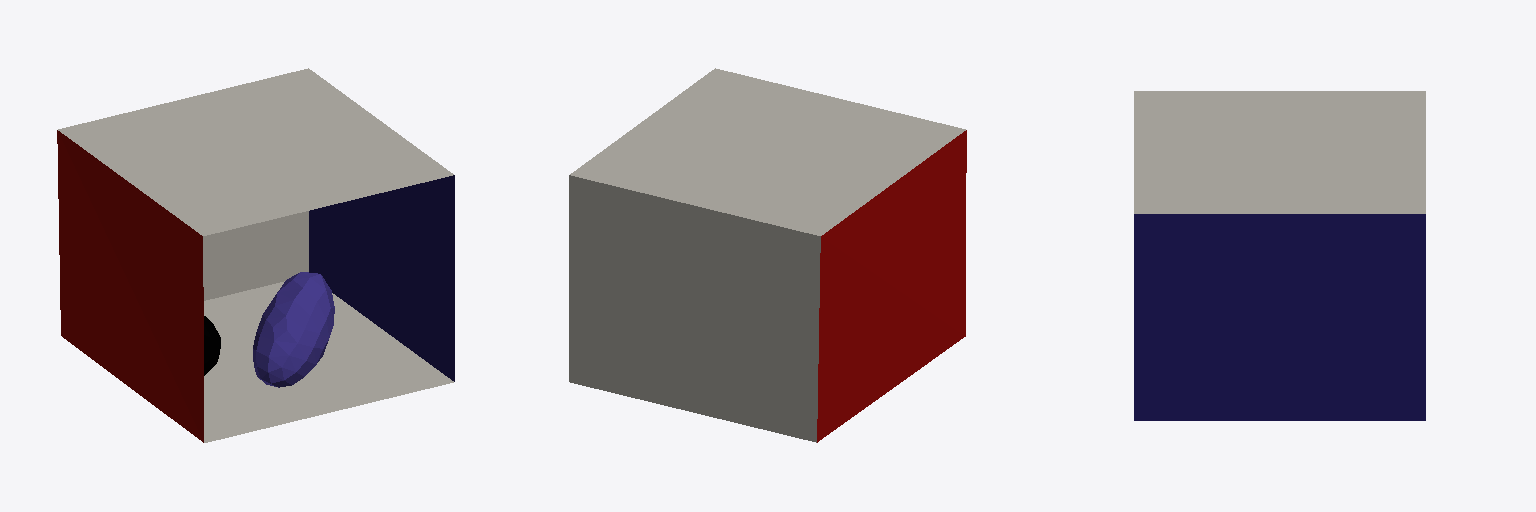
The model's file is CornellBox-Ellipsoid-407.obj.
3 renders of one model, left to right at view 1: azimuth 30°, elevation 25°; view 2: azimuth 150°, elevation 25°; view 3: azimuth 270°, elevation 25°, orthographic.
Parts seen in each view (by area): view 1: ceiling, leftWall, rightWall, floor, leftSphere, backWall, rightSphere; view 2: backWall, ceiling, leftWall; view 3: rightWall, ceiling.
Part boxes in pixels (x1,y1,x2,y2): ceiling: (58, 68, 453, 235); leftWall: (57, 130, 203, 442); rightWall: (309, 175, 454, 381); floor: (204, 281, 453, 442); leftSphere: (253, 272, 334, 387); backWall: (203, 211, 308, 300); rightSphere: (204, 316, 220, 375); backWall: (569, 175, 820, 442); ceiling: (570, 68, 965, 235); leftWall: (817, 130, 966, 442); rightWall: (1134, 214, 1425, 420); ceiling: (1134, 91, 1425, 213).
Size of the model in its own units: 2.02 by 1.59 by 2.03.